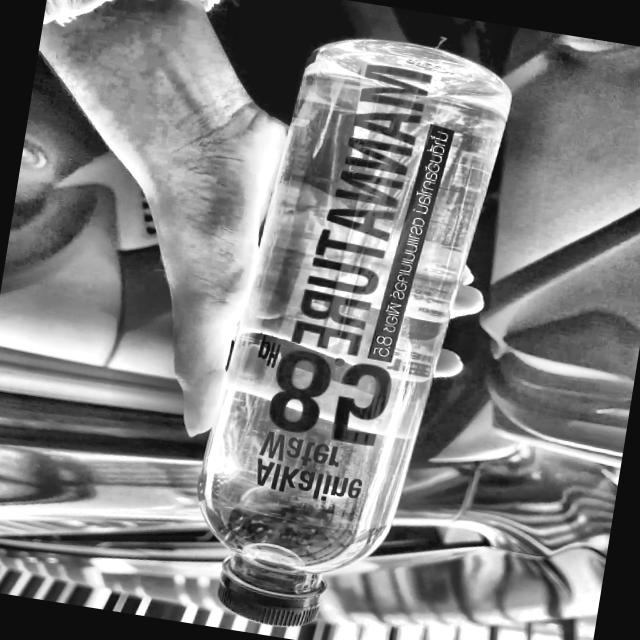waterbottle: (174, 6, 545, 640)
